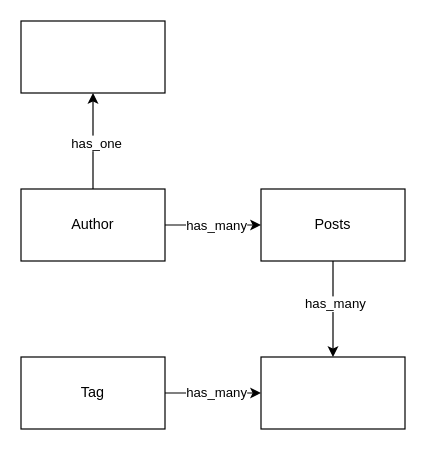
Some shapes in this 426 by 450 pixel diagram are drawn without their labels. Each missing label, with the centre of its shape:
"Post_Tags" belongs at (332,392).
"Profile" belongs at (92,56).
